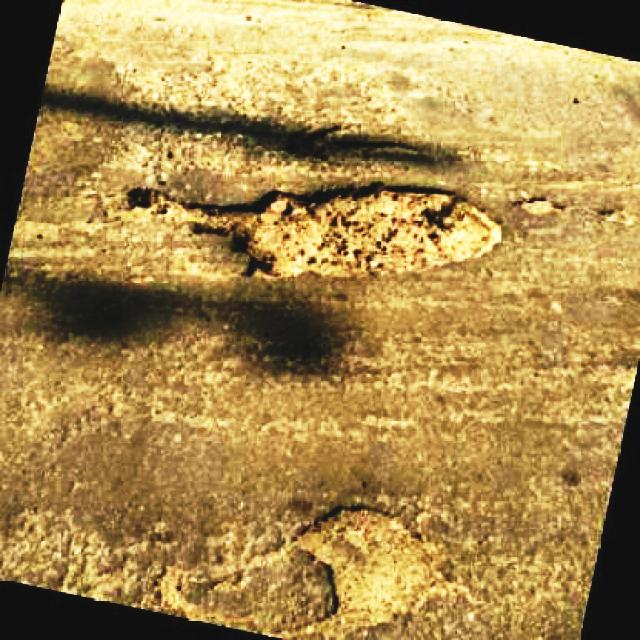pothole: (128, 180, 506, 271), (260, 500, 454, 640), (289, 122, 442, 163), (514, 191, 560, 220)
